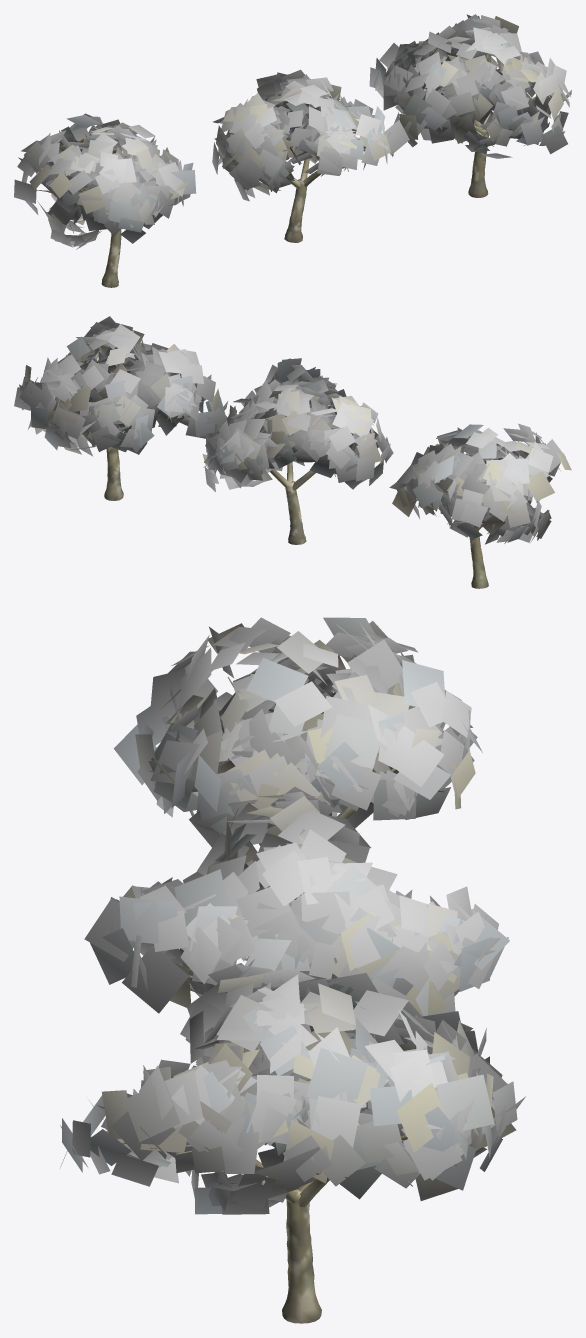
Rendered from plane_tree.glb.
3 views of the same model, one above another, from view 1: azimuth 30°, elevation 25°; view 2: azimuth 150°, elevation 25°; view 3: azimuth 270°, elevation 25° (orthographic). The views are drawn at different scales.
Visible parts, largest first — view 1: plane_tree_c_leaves, plane_tree_a_leaves, plane_tree_b_leaves, plane_tree_b, plane_tree_c, plane_tree_a; view 2: plane_tree_c_leaves, plane_tree_b_leaves, plane_tree_a_leaves, plane_tree_b, plane_tree_c, plane_tree_a; view 3: plane_tree_c_leaves, plane_tree_a_leaves, plane_tree_b_leaves, plane_tree_c.
Part boxes in pixels (x1,y1,x2,y2): plane_tree_c_leaves: (369,14,571,158); plane_tree_a_leaves: (14,113,196,249); plane_tree_b_leaves: (212,69,409,201); plane_tree_b: (284,138,365,242); plane_tree_c: (468,54,568,197); plane_tree_a: (36,134,121,287); plane_tree_c_leaves: (14,316,227,456); plane_tree_b_leaves: (202,358,393,491); plane_tree_a_leaves: (389,423,571,544); plane_tree_b: (203,414,335,544); plane_tree_c: (77,359,188,500); plane_tree_a: (418,497,507,588); plane_tree_c_leaves: (60,959,525,1214); plane_tree_a_leaves: (113,617,482,847); plane_tree_b_leaves: (84,786,509,1038); plane_tree_c: (122,1078,412,1323).
Size of the model in its own units: 30.88 by 9.72 by 12.21.
